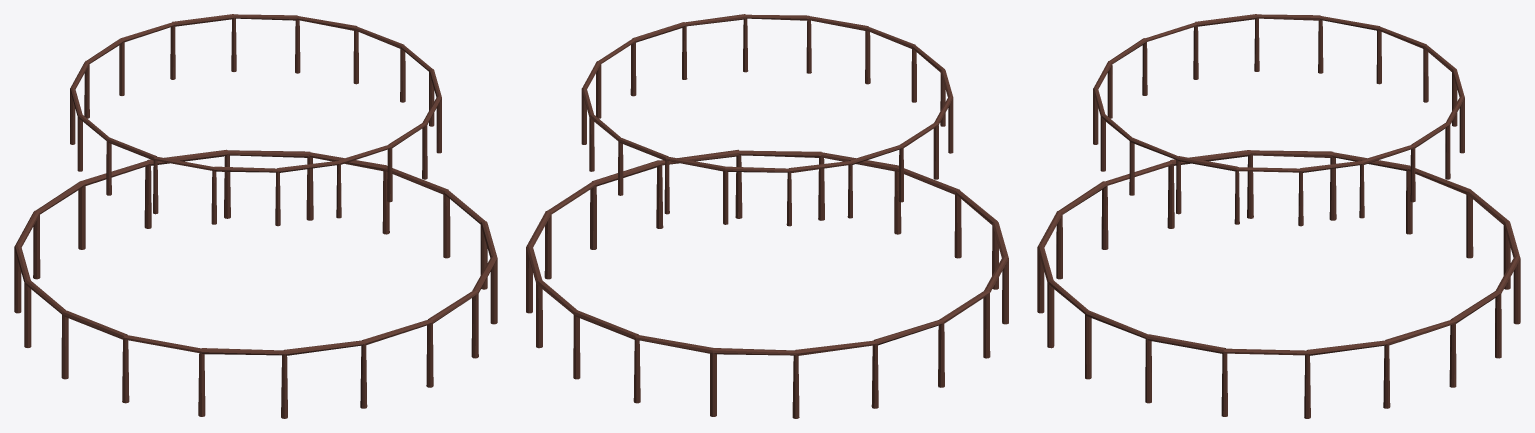
File: cylinder.024_lev3.glb
3 renders of one model, left to right at view 1: azimuth 30°, elevation 25°; view 2: azimuth 150°, elevation 25°; view 3: azimuth 270°, elevation 25°, orthographic.
Visible parts, largest first — view 1: cylinder.024_lev3; view 2: cylinder.024_lev3; view 3: cylinder.024_lev3.
Boxes of the visible parts, x1,y1,x2,y2 form: cylinder.024_lev3: (14,14,497,418); cylinder.024_lev3: (526,14,1008,418); cylinder.024_lev3: (1037,14,1520,418).
Bounding box in the file's own units: 2.36 × 1.23 × 2.38.
